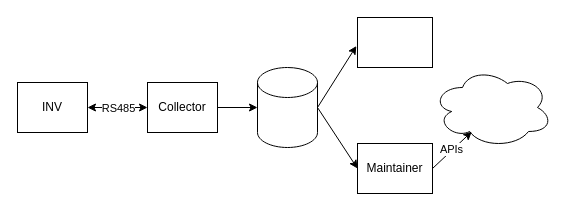
Image size: 570x211. Some labels were removed from this diagram. The shapes that lost their labels are listed below. From the top down, each one's centre as x and y in pixels, then its label:
At point (394, 42): "Visualizer".
At point (492, 107): "Server".
